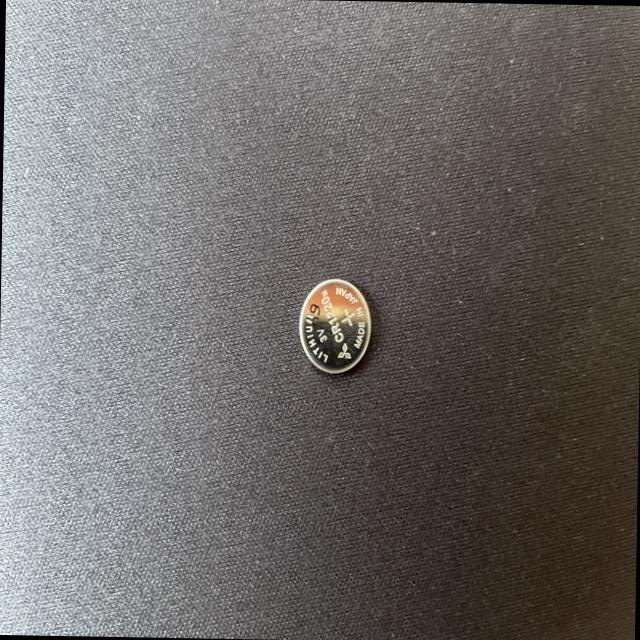COIN: (292, 273, 376, 376)
